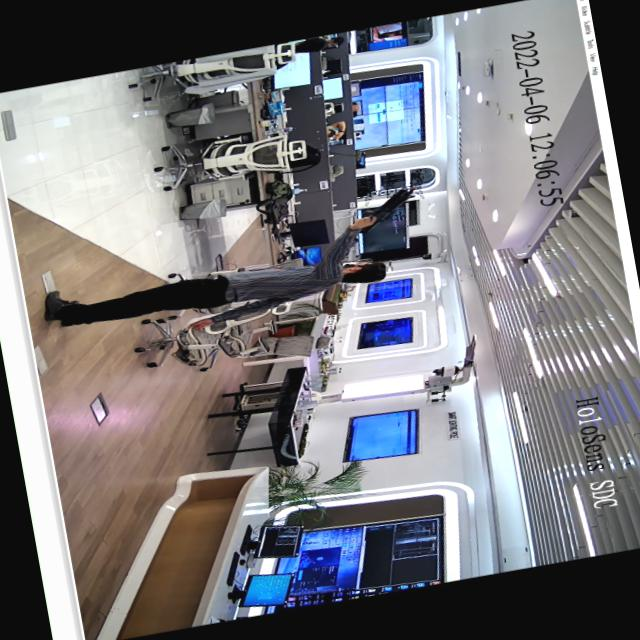long weapon: (340, 186, 424, 237)
